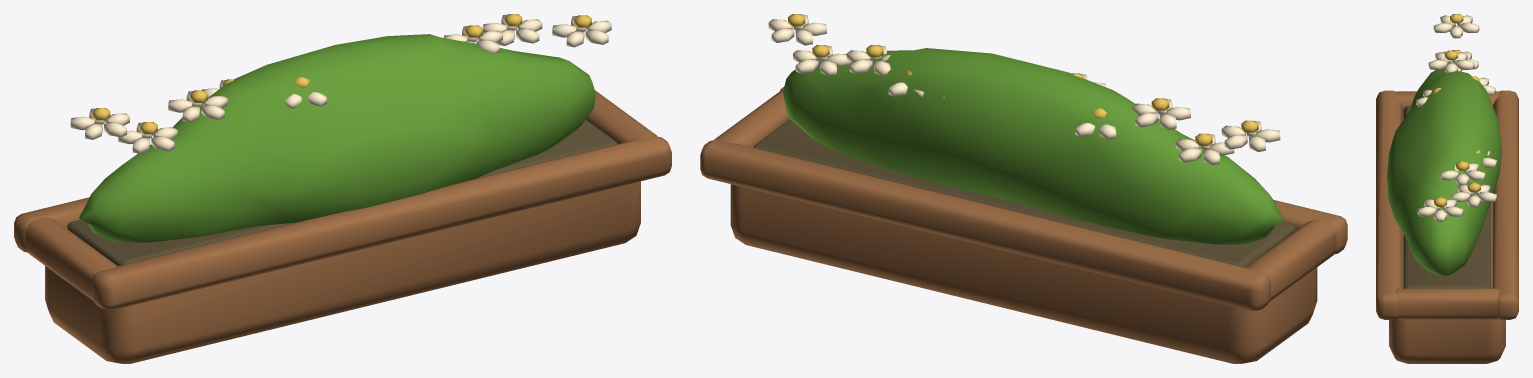
File: WindowBox1p6m.fbx
The picture shows the model from 3 angles, left to right: view 1: azimuth 30°, elevation 25°; view 2: azimuth 150°, elevation 25°; view 3: azimuth 270°, elevation 25°; orthographic projection. The views are drawn at different scales.
Visible parts, largest first — view 1: WindowBox1p6m_Wood, WindowBox1p6m_Foliage, WindowBox1p6m_Flower, WindowBox1p6m_Soil, WindowBox1p6m_FlowerGold; view 2: WindowBox1p6m_Wood, WindowBox1p6m_Foliage, WindowBox1p6m_Soil, WindowBox1p6m_Flower, WindowBox1p6m_FlowerGold; view 3: WindowBox1p6m_Wood, WindowBox1p6m_Foliage, WindowBox1p6m_Flower, WindowBox1p6m_Soil, WindowBox1p6m_FlowerGold.
Part boxes in pixels (box(x1,y1,x2,y2)): WindowBox1p6m_Wood: box(14, 90, 671, 363); WindowBox1p6m_Foliage: box(79, 34, 595, 242); WindowBox1p6m_Flower: box(70, 14, 611, 153); WindowBox1p6m_Soil: box(67, 120, 617, 265); WindowBox1p6m_FlowerGold: box(92, 14, 591, 134); WindowBox1p6m_Wood: box(700, 87, 1347, 363); WindowBox1p6m_Foliage: box(783, 48, 1283, 244); WindowBox1p6m_Soil: box(753, 119, 1295, 267); WindowBox1p6m_Flower: box(768, 14, 1280, 165); WindowBox1p6m_FlowerGold: box(788, 14, 1258, 145); WindowBox1p6m_Wood: box(1376, 90, 1518, 363); WindowBox1p6m_Foliage: box(1387, 69, 1501, 276); WindowBox1p6m_Flower: box(1416, 15, 1496, 221); WindowBox1p6m_Soil: box(1403, 106, 1491, 288); WindowBox1p6m_FlowerGold: box(1432, 14, 1480, 206).
Bounding box in the file's own units: 1.7 × 0.6516 × 0.49.
